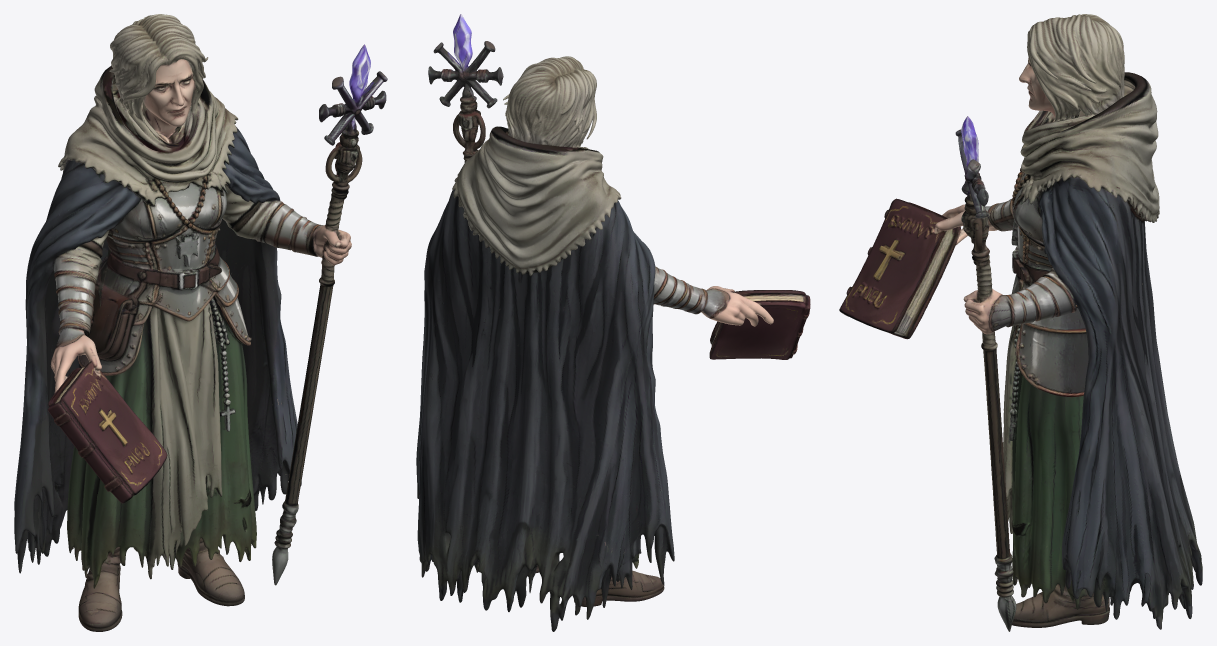
The model's file is elias.glb.
3 views of the same model, side by side, from view 1: azimuth 30°, elevation 25°; view 2: azimuth 150°, elevation 25°; view 3: azimuth 270°, elevation 25° (orthographic). The views are drawn at different scales.
Size of the model in its own units: 0.103 by 0.15 by 0.0847.
Materials: 1 (1 with a texture image).
